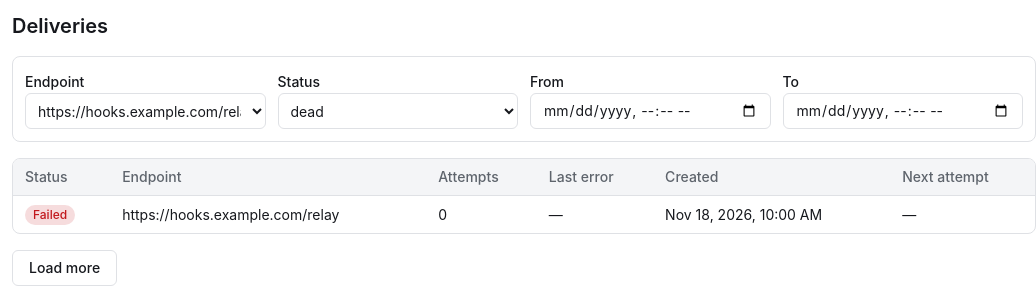
Test: deliveries list › pages with the cursor and passes the URL's filters to the API
Expected: the link with aria-label "Delivery d1" is shown, left=25, top=205, right=75, bottom=222
Click the button "Load more" at (65,268), box left=12, top=250, right=117, bottom=286
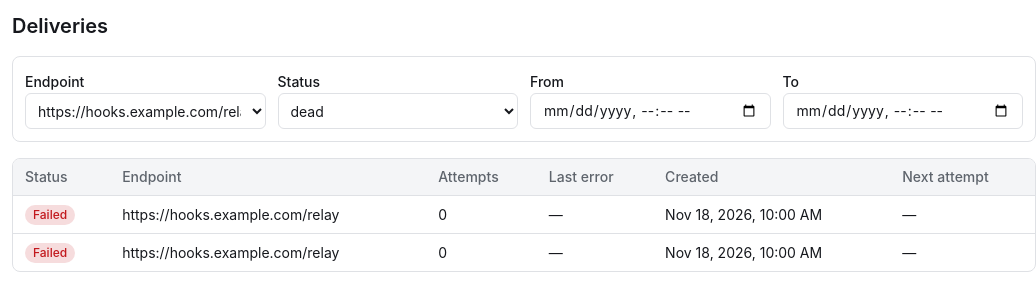
Expected: the link with aria-label "Delivery d2" is shown, left=25, top=243, right=75, bottom=260
Expected: the button "Load more" is gone
